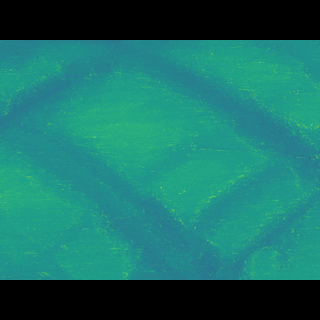Loch: (136, 83, 320, 182), (100, 180, 320, 250), (0, 76, 124, 148)
